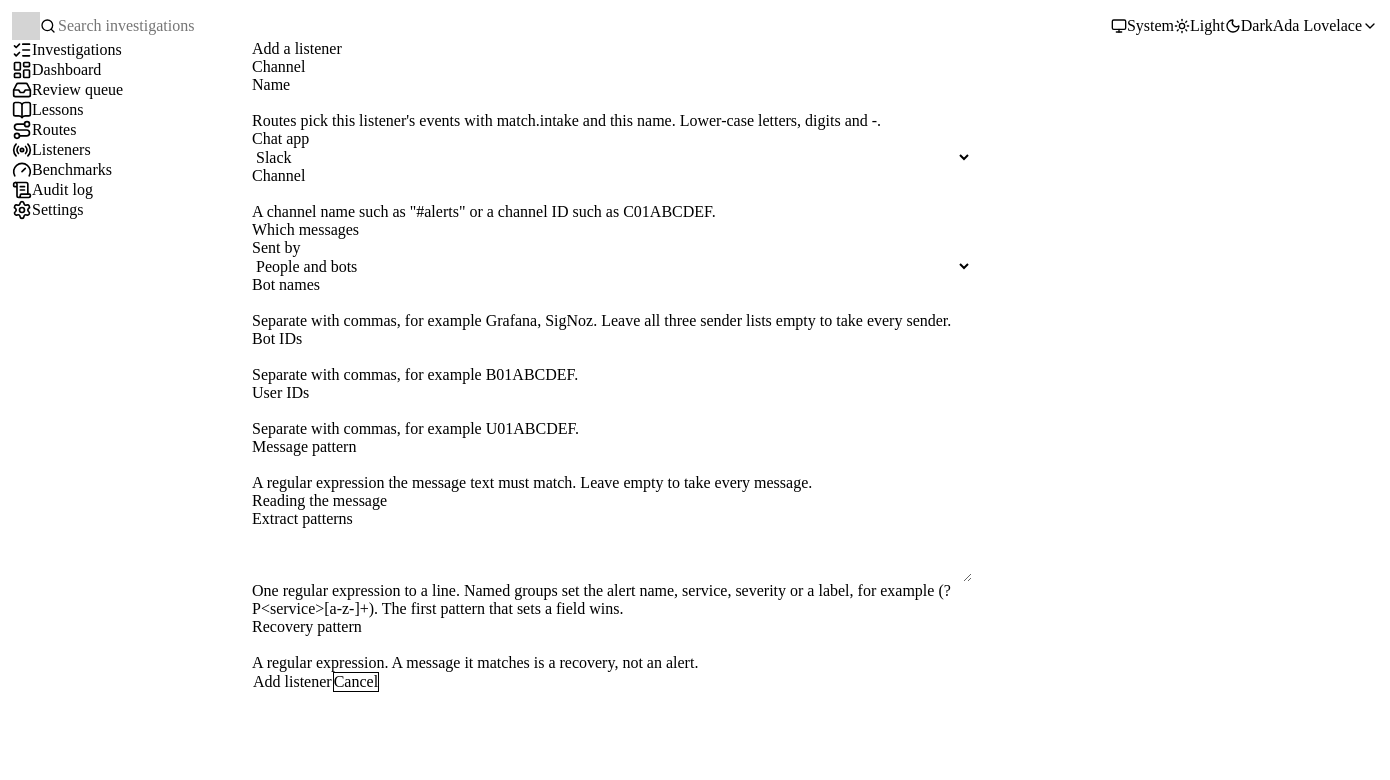
Scenario: the listener form › says that a name is taken, on the name
Type "ops" into the field labelled "Name" at x=612, y=103, box [252,94,972,112]
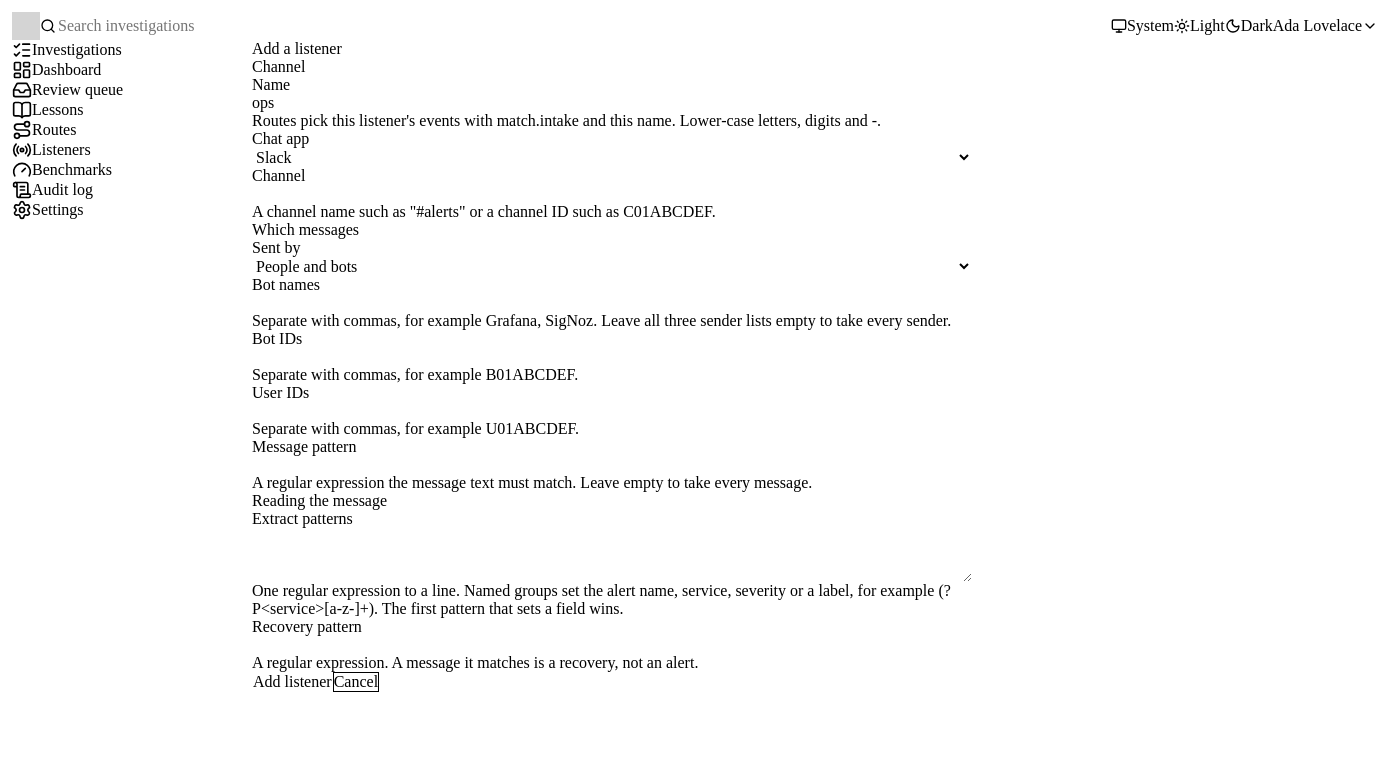
Type "#ops" into the field labelled "Channel" at x=612, y=194, box [252,185,972,203]
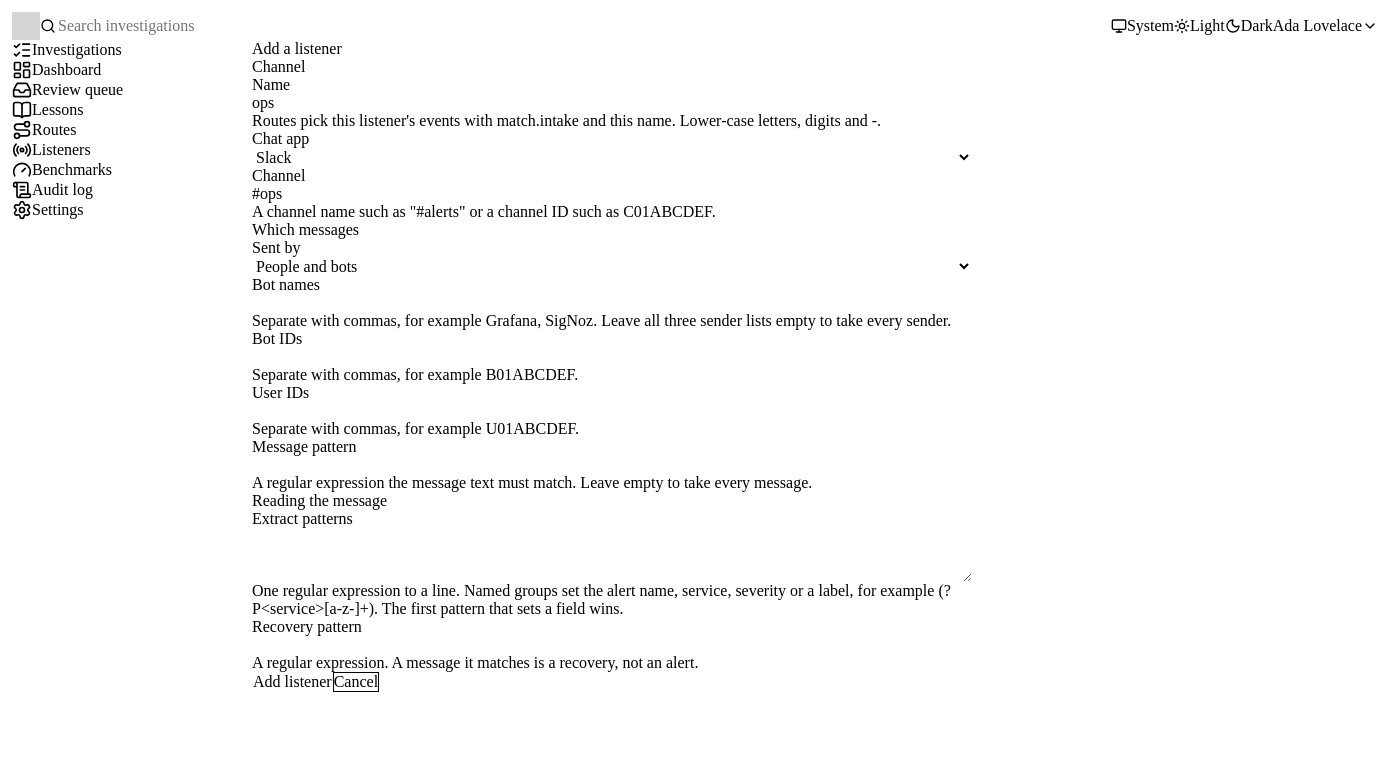
Click the button "Add listener" at x=292, y=682, box [252,672,333,692]
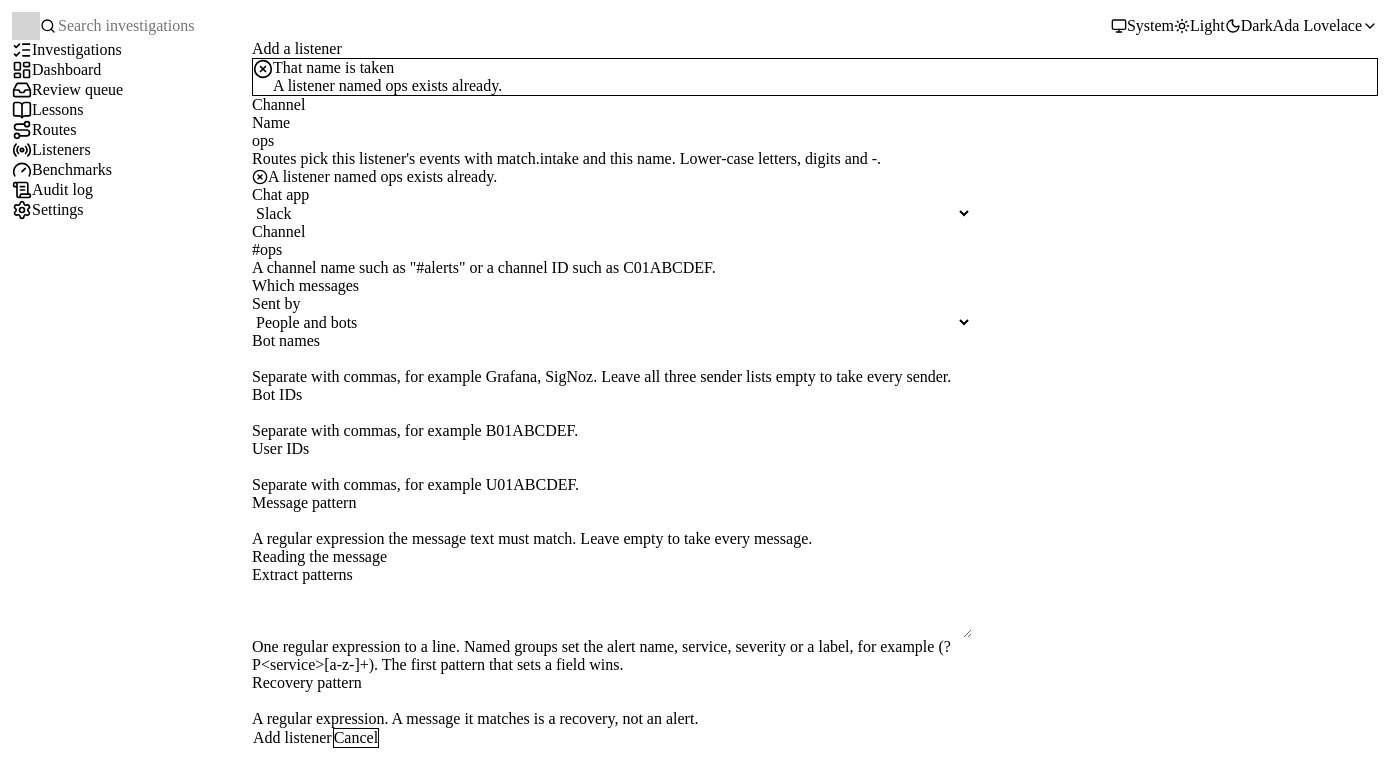
Expected: the heading "That name is taken" is shown, [273,59,394,77]
